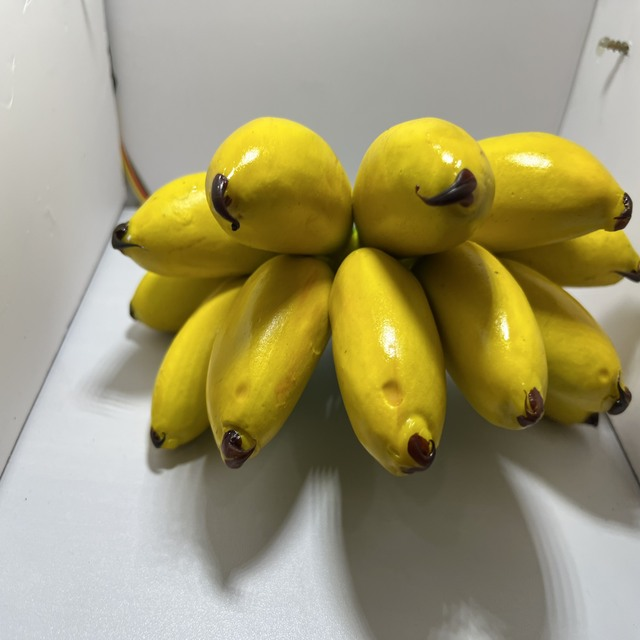Chuoi: (106, 114, 640, 482)
